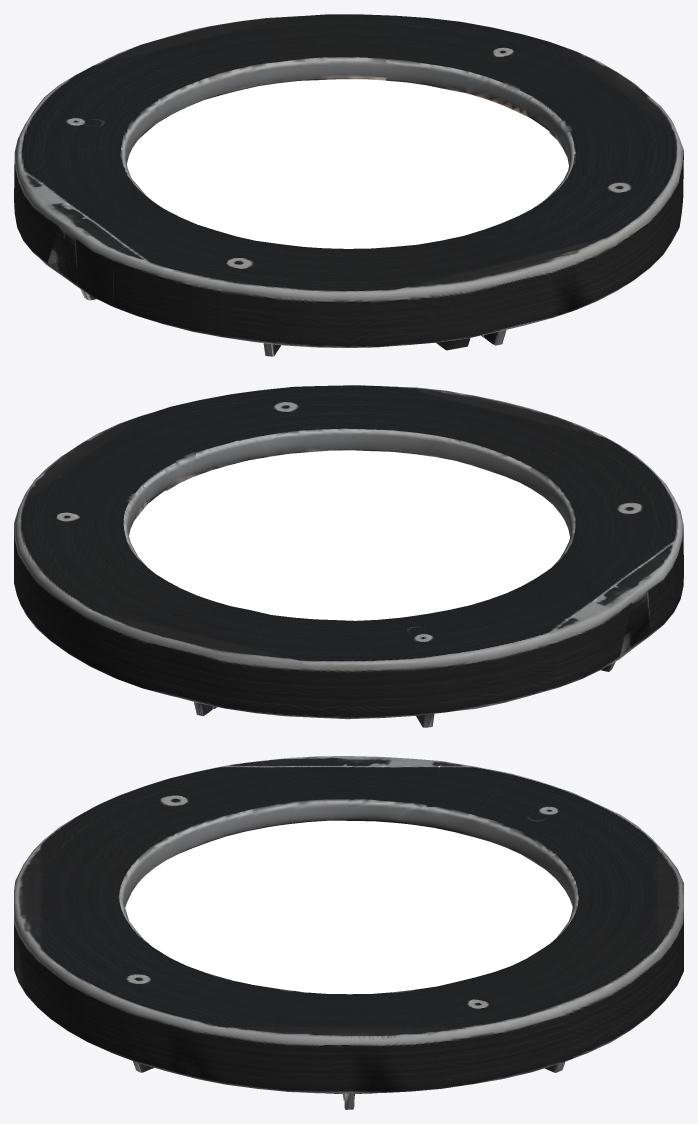
Rendered from uplight.glb.
The picture shows the model from 3 angles, top to bottom: view 1: azimuth 30°, elevation 25°; view 2: azimuth 150°, elevation 25°; view 3: azimuth 270°, elevation 25°; orthographic projection.
Visible parts, largest first — view 1: Mesh_0; view 2: Mesh_0; view 3: Mesh_0.
Part boxes in pixels (x1,y1,x2,y2): Mesh_0: [14, 14, 683, 356]; Mesh_0: [14, 385, 683, 727]; Mesh_0: [14, 756, 683, 1109].
Size of the model in its own units: 0.2507 by 0.035 by 0.2507.
1 material, 1 textured.
